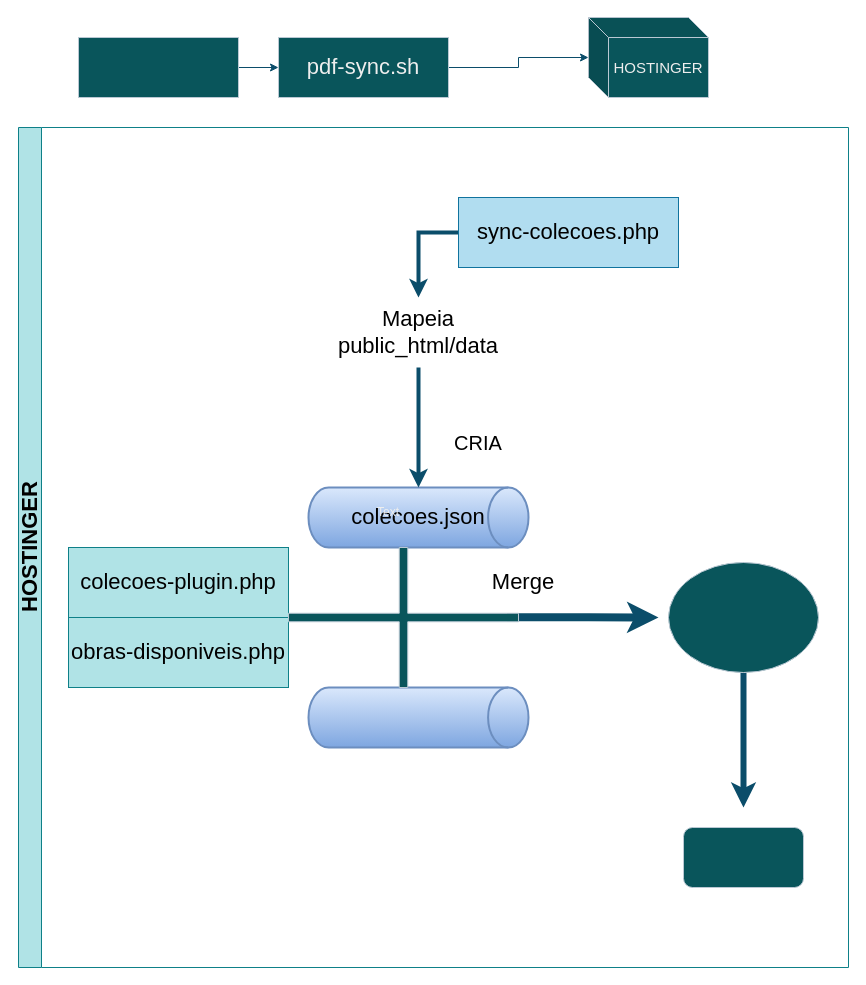
The diagram is 866 pixels wide and 985 high, and some of its shapes have lost their labels. Each missing label, with the centre of its shape:
blank.yml: (x=158, y=67)
DISPLAY: (x=743, y=857)
metadata.json: (x=418, y=717)
metadata.json + colecoes.json: (x=743, y=617)
